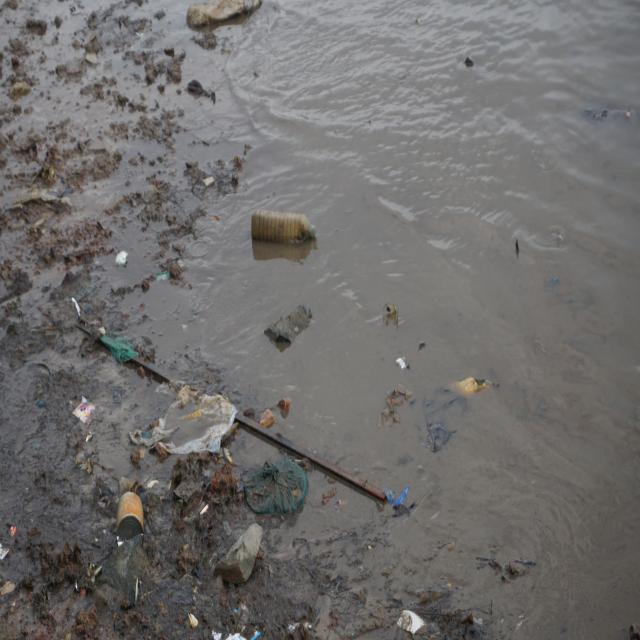Botol Plastik: (250, 203, 320, 253)
Bungkus Minuman: (74, 396, 96, 426)
Kantong Plastik: (246, 457, 310, 520), (419, 385, 468, 456), (381, 384, 414, 433), (103, 330, 139, 368)
